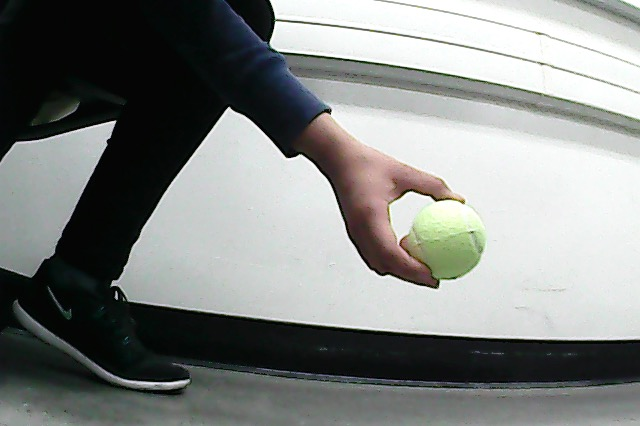ball: (409, 200, 486, 280)
